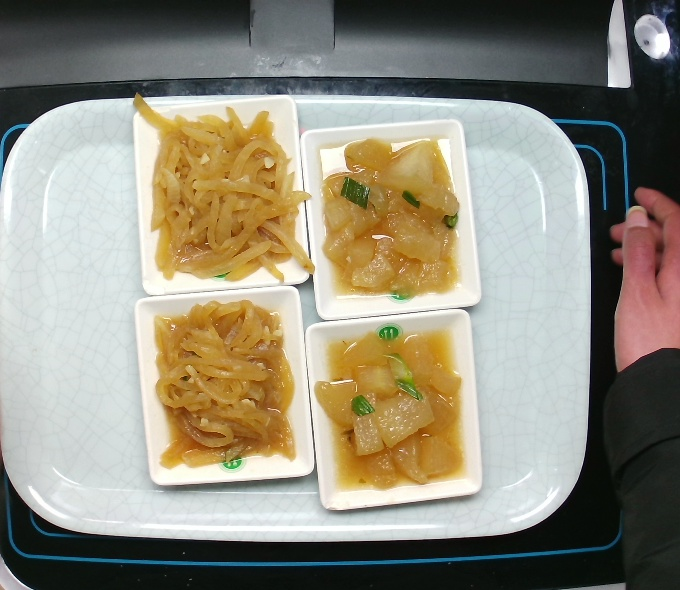wcq-DongGua: (310, 128, 470, 307), (308, 322, 471, 496)
wcq-LuoBoSi: (128, 86, 321, 286), (148, 296, 304, 476)
